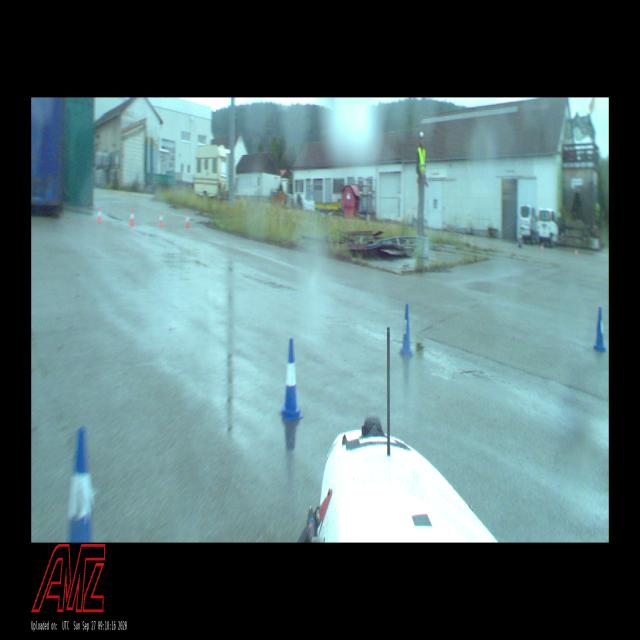blue_cone: (68, 424, 94, 543), (280, 338, 303, 421), (399, 304, 413, 355), (593, 307, 607, 352)
